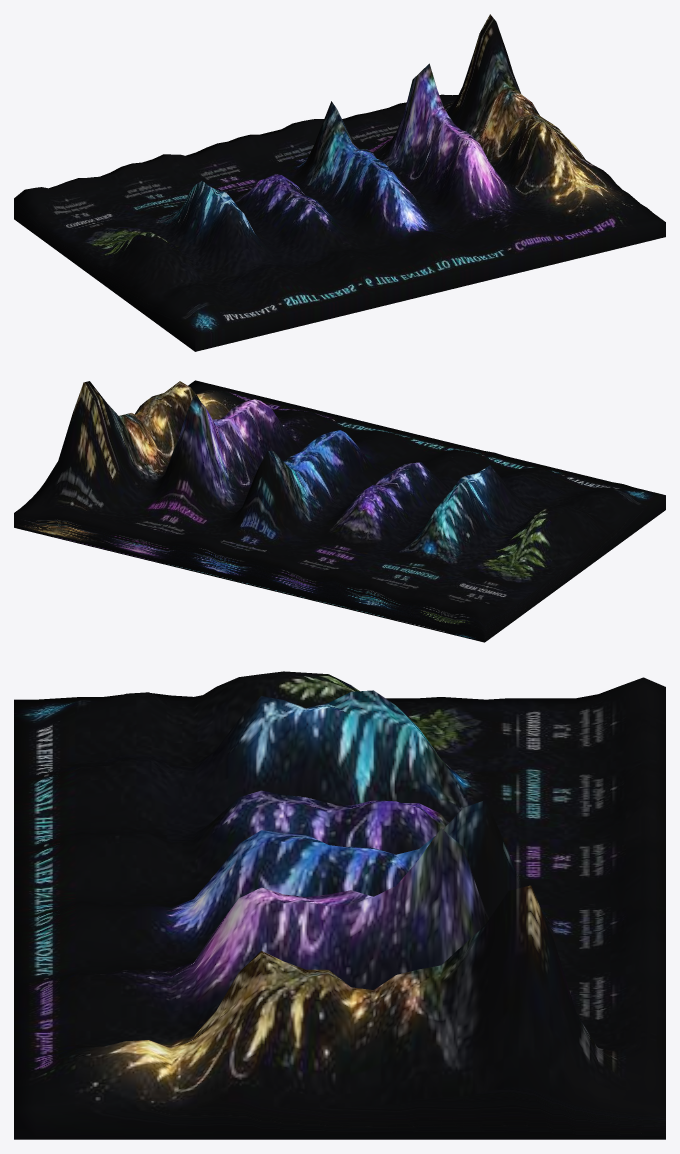
The model's file is MATERIAL_Spirit_Herbs_6Tier.glb.
3 renders of one model, top to bottom at view 1: azimuth 30°, elevation 25°; view 2: azimuth 150°, elevation 25°; view 3: azimuth 270°, elevation 25°, orthographic. The views are drawn at different scales.
Parts seen in each view (by area): view 1: MATERIAL_Spirit_Herbs_6Tier; view 2: MATERIAL_Spirit_Herbs_6Tier; view 3: MATERIAL_Spirit_Herbs_6Tier.
Part boxes in pixels (x1,y1,x2,y2): MATERIAL_Spirit_Herbs_6Tier: (14,14,665,351); MATERIAL_Spirit_Herbs_6Tier: (14,380,665,642); MATERIAL_Spirit_Herbs_6Tier: (14,671,665,1139).
Bounding box in the file's own units: 2 × 0.51 × 1.33.
1 material, 1 textured.
